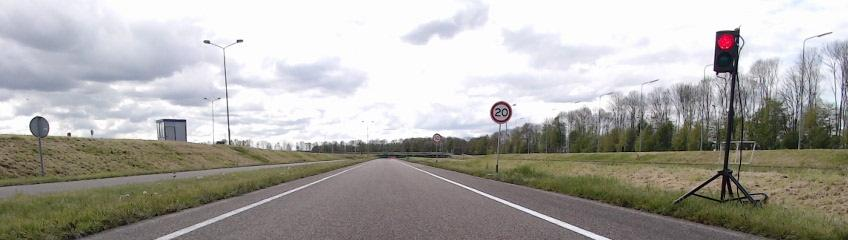Speed-limit-10km-h-: (432, 134, 442, 143)
Speed-limit-20km-h-: (490, 101, 512, 124)
TrafficLight-red: (714, 30, 739, 73)
